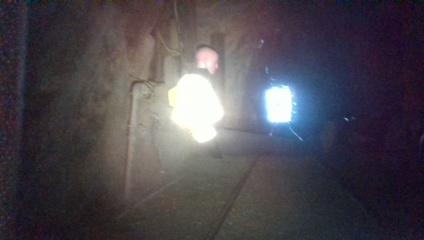manikin: (163, 44, 262, 159)
